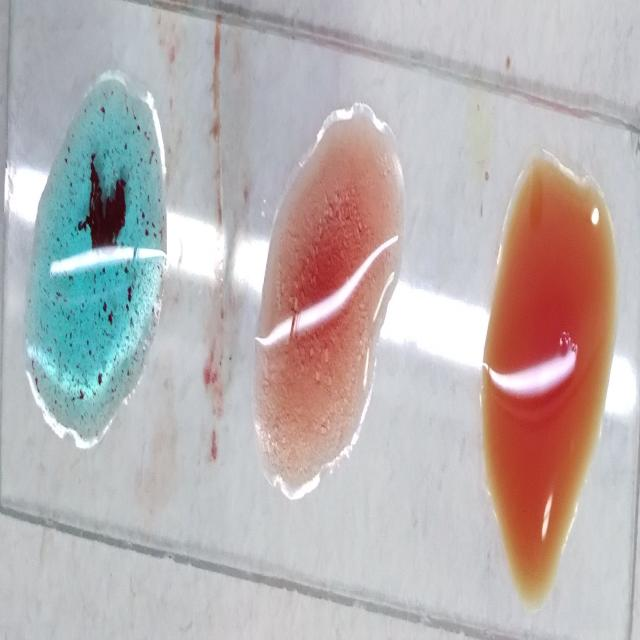A: (34, 63, 158, 445)
D: (266, 116, 395, 490)
